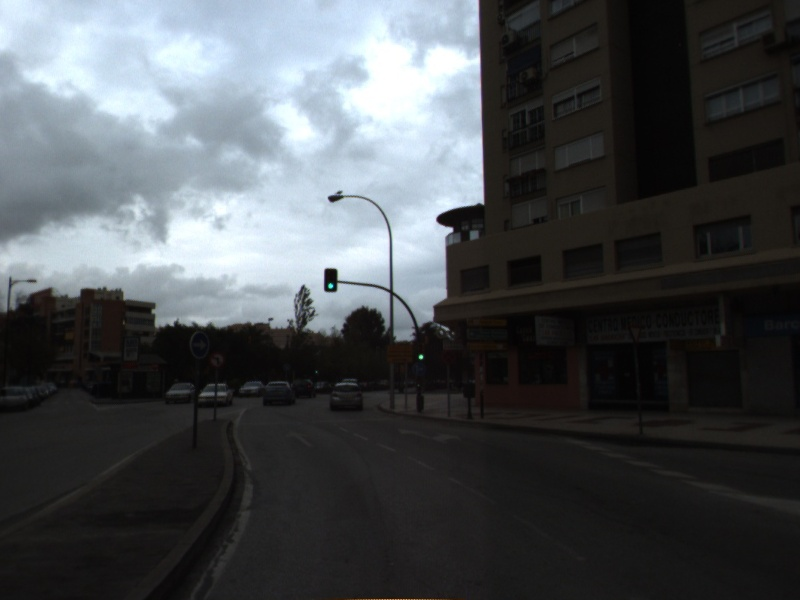STRAIGHT: (283, 428, 315, 448)
STRAIGHT_RIGHT: (396, 426, 465, 446)
